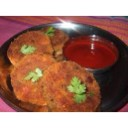cutlet: (46, 60, 101, 110), (11, 56, 57, 105), (8, 32, 59, 63)
